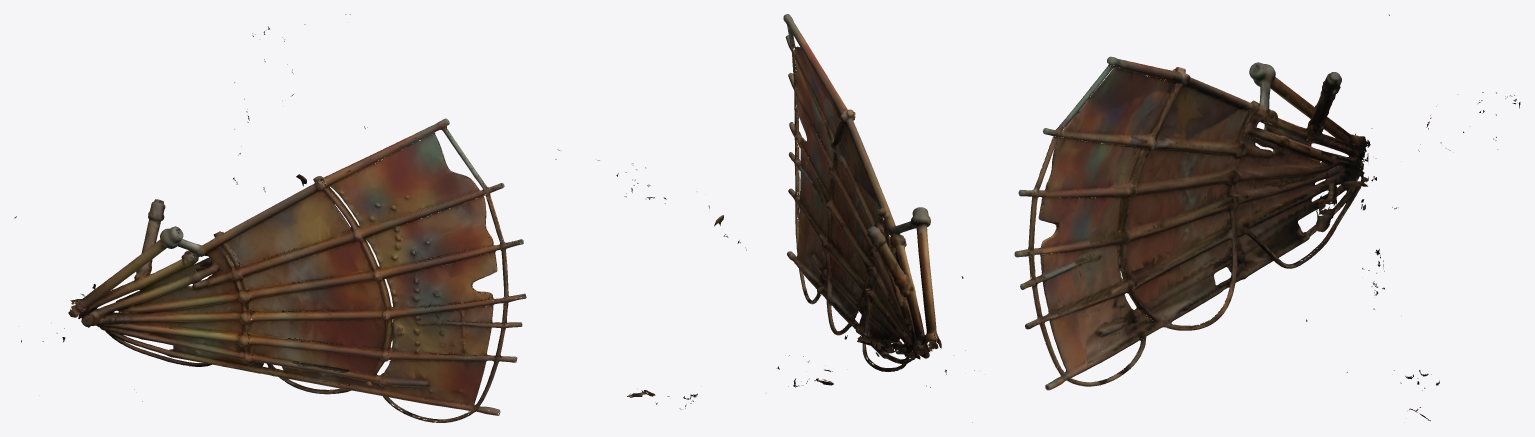
The model's file is ala2.obj.
3 renders of one model, left to right at view 1: azimuth 30°, elevation 25°; view 2: azimuth 150°, elevation 25°; view 3: azimuth 270°, elevation 25°, orthographic. The views are drawn at different scales.
Visible parts, largest first — view 1: nave.001; view 2: nave.001; view 3: nave.001.
Part boxes in pixels (box(x1,y1,x2,y2)): nave.001: box(14, 14, 526, 422); nave.001: box(555, 14, 974, 422); nave.001: box(1014, 14, 1520, 420).
Size of the model in its own units: 0.9984 by 0.7603 by 0.9861.
